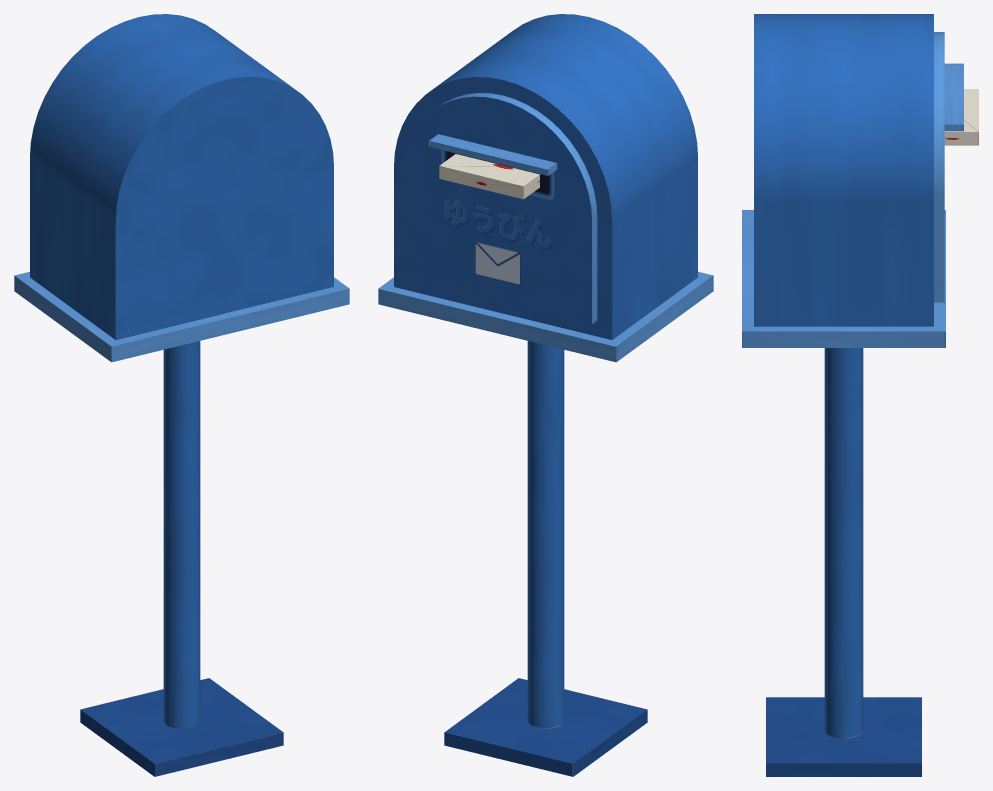
File: Mailbox_Blue.obj
3 views of the same model, side by side, from view 1: azimuth 30°, elevation 25°; view 2: azimuth 150°, elevation 25°; view 3: azimuth 270°, elevation 25° (orthographic). The views are drawn at different scales.
Parts seen in each view (by area): view 1: MailboxBody; view 2: MailboxBody, Letter; view 3: MailboxBody, Letter.
Boxes of the visible parts, left/top/right/bottom form: MailboxBody: left=14, top=14, right=349, bottom=776; MailboxBody: left=378, top=14, right=713, bottom=776; Letter: left=439, top=154, right=539, bottom=199; MailboxBody: left=742, top=14, right=963, bottom=776; Letter: left=944, top=89, right=978, bottom=145.
Size of the model in its own units: 0.48 by 1.32 by 0.395.
Materials: 1 (1 with a texture image).
